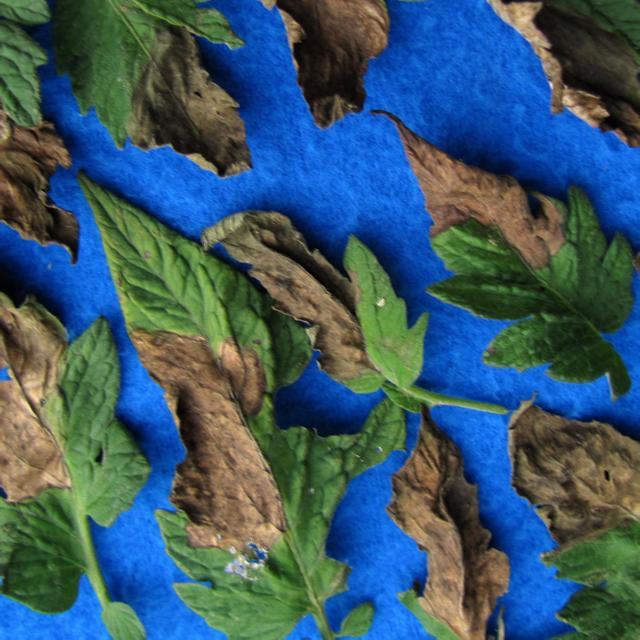Tomato leaf late blight: (95, 194, 337, 640), (397, 146, 640, 389), (0, 234, 142, 640), (198, 202, 470, 406), (22, 0, 285, 183), (143, 0, 426, 122), (505, 408, 640, 640), (448, 0, 640, 156), (0, 0, 90, 261)
